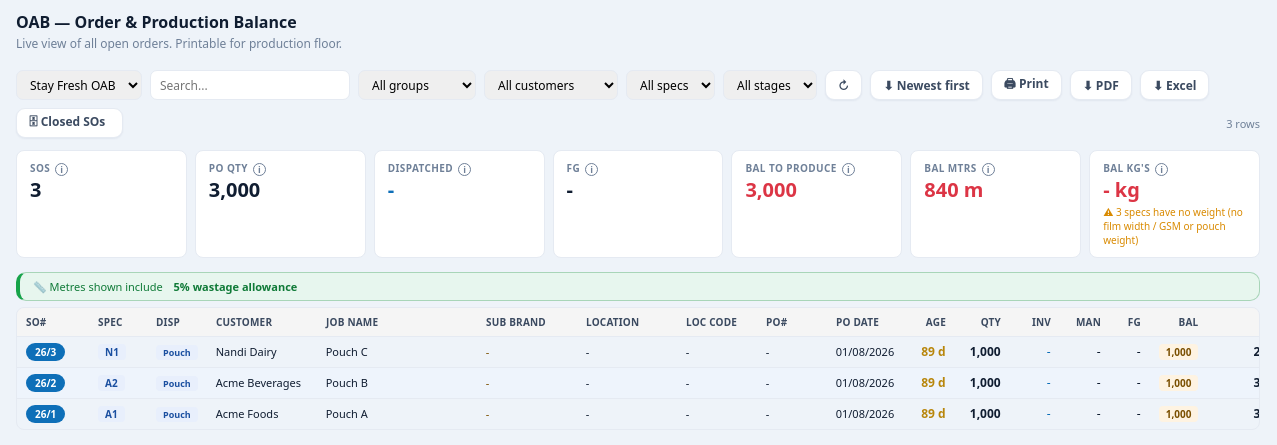
Test: OAB board — filter by group, and narrow what follows › narrows the customers and the specs to the chosen group
Expected: the text "Pouch A" is shown, [317,398,477,429]
Select "ACME GROUP" in the dropdown named "Filter by group" at (417, 85), box [358,70,476,100]
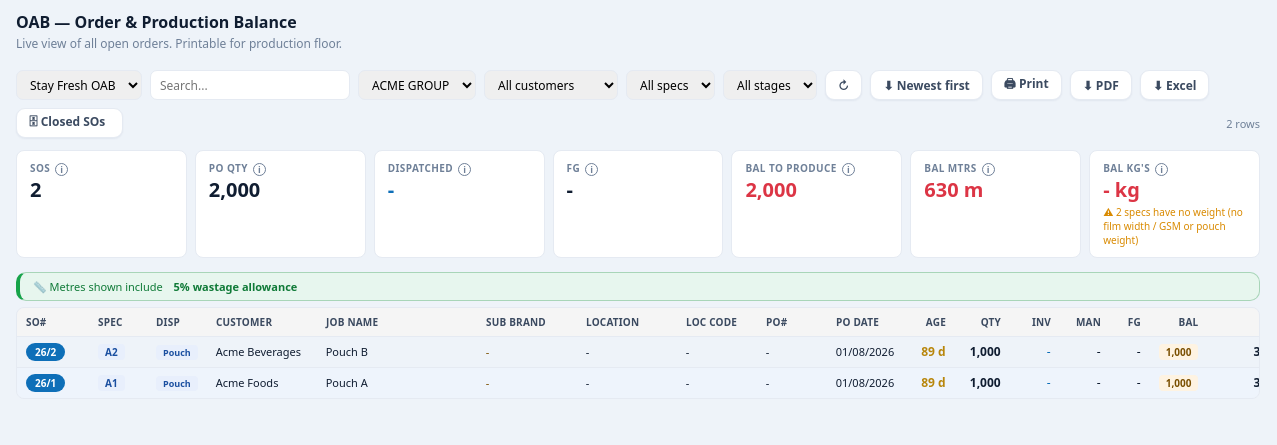
Now the text "Pouch C" is gone
